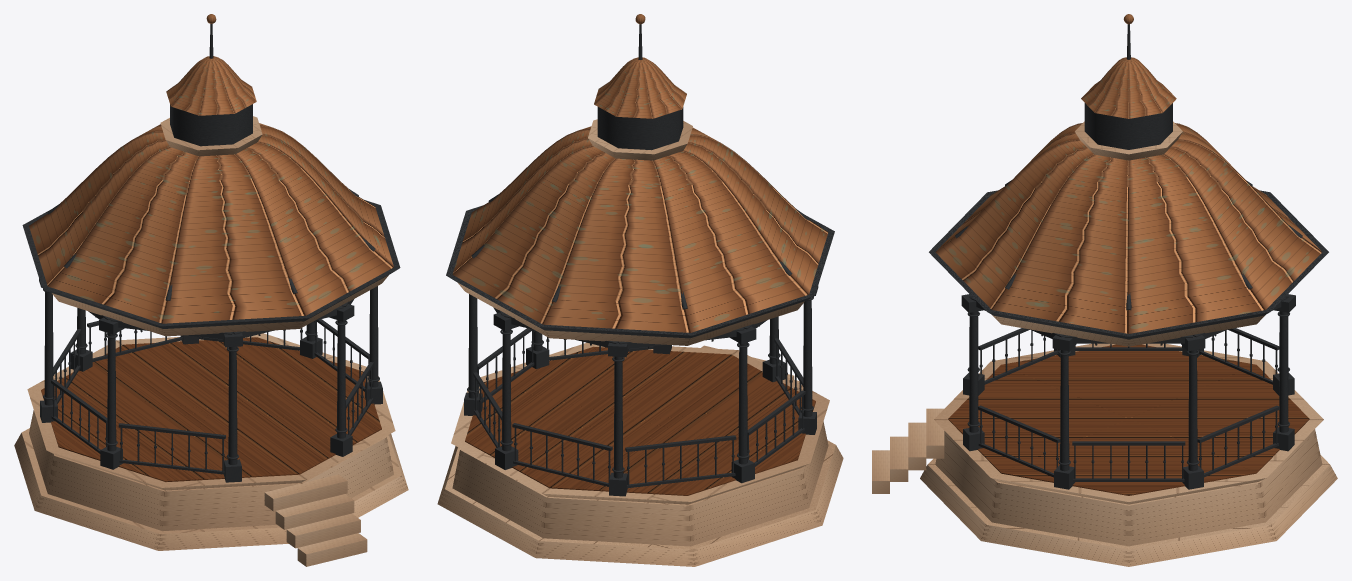
File: kiosko_colonial.obj
3 renders of one model, left to right at view 1: azimuth 30°, elevation 25°; view 2: azimuth 150°, elevation 25°; view 3: azimuth 270°, elevation 25°, orthographic. The views are drawn at different scales.
Parts seen in each view (by area): view 1: Cupula_Cobre_Principal, Piso_Madera_Interior, Base_Cantera, SubBase_Plinto, Moldura_Base, Cupulin_Linternilla, Alero_Moldura, Muro_Ventanillas_Linternilla, Cornisa_Techo, Escalon_4, Escalon_3, Escalon_2 (+8 smaller); view 2: Cupula_Cobre_Principal, Piso_Madera_Interior, Base_Cantera, SubBase_Plinto, Moldura_Base, Cupulin_Linternilla, Alero_Moldura, Muro_Ventanillas_Linternilla, Cornisa_Techo, Base_Linternilla, Fuste_Columna_5, Fuste_Columna_7 (+5 smaller); view 3: Cupula_Cobre_Principal, Piso_Madera_Interior, Base_Cantera, SubBase_Plinto, Moldura_Base, Cupulin_Linternilla, Alero_Moldura, Muro_Ventanillas_Linternilla, Cornisa_Techo, Base_Linternilla, Fuste_Columna_8, Fuste_Columna_2 (+6 smaller).
Boxes of the visible parts, bbox=[...] form: Cupula_Cobre_Principal: bbox=[29, 123, 393, 323]; Piso_Madera_Interior: bbox=[41, 337, 381, 481]; Base_Cantera: bbox=[29, 410, 393, 531]; SubBase_Plinto: bbox=[14, 428, 408, 550]; Moldura_Base: bbox=[27, 333, 395, 490]; Cupulin_Linternilla: bbox=[166, 56, 256, 115]; Alero_Moldura: bbox=[22, 200, 400, 328]; Muro_Ventanillas_Linternilla: bbox=[170, 104, 252, 146]; Cornisa_Techo: bbox=[52, 275, 388, 336]; Escalon_4: bbox=[264, 474, 347, 511]; Escalon_3: bbox=[275, 494, 354, 529]; Escalon_2: bbox=[286, 513, 360, 548]; Cupula_Cobre_Principal: bbox=[452, 126, 828, 332]; Piso_Madera_Interior: bbox=[465, 346, 815, 495]; Base_Cantera: bbox=[452, 421, 828, 546]; SubBase_Plinto: bbox=[437, 440, 843, 566]; Moldura_Base: bbox=[451, 342, 829, 504]; Cupulin_Linternilla: bbox=[594, 57, 686, 118]; Alero_Moldura: bbox=[446, 205, 834, 338]; Muro_Ventanillas_Linternilla: bbox=[597, 107, 683, 150]; Cornisa_Techo: bbox=[457, 282, 804, 345]; Base_Linternilla: bbox=[588, 119, 692, 160]; Fuste_Columna_5: bbox=[738, 342, 747, 464]; Fuste_Columna_7: bbox=[502, 329, 511, 451]; Cupula_Cobre_Principal: bbox=[935, 123, 1321, 333]; Piso_Madera_Interior: bbox=[948, 344, 1309, 495]; Base_Cantera: bbox=[935, 429, 1322, 546]; SubBase_Plinto: bbox=[920, 455, 1337, 566]; Moldura_Base: bbox=[934, 343, 1323, 504]; Cupulin_Linternilla: bbox=[1081, 57, 1176, 118]; Alero_Moldura: bbox=[929, 190, 1328, 339]; Muro_Ventanillas_Linternilla: bbox=[1084, 103, 1172, 149]; Cornisa_Techo: bbox=[991, 314, 1265, 346]; Base_Linternilla: bbox=[1075, 121, 1182, 160]; Fuste_Columna_8: bbox=[1188, 350, 1197, 471]; Fuste_Columna_2: bbox=[969, 311, 978, 432].
Bounding box in the file's own units: 8.1 × 9.92 × 9.03.
Materials: 4 (4 with a texture image).
